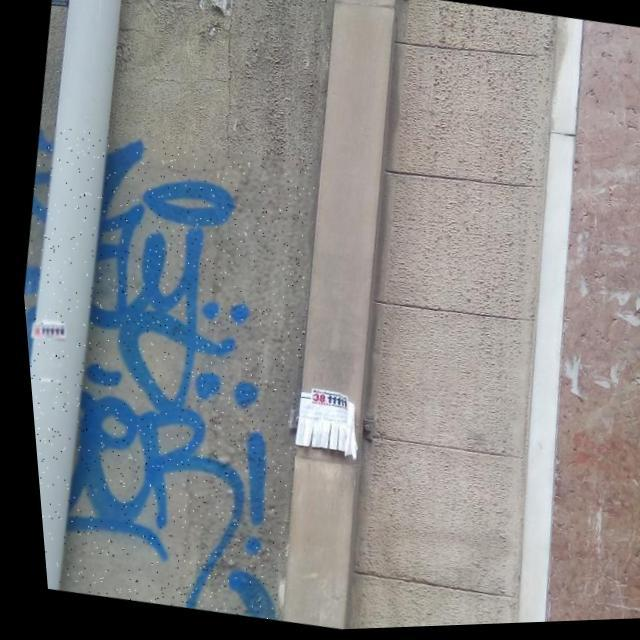-: (8, 116, 343, 627)
